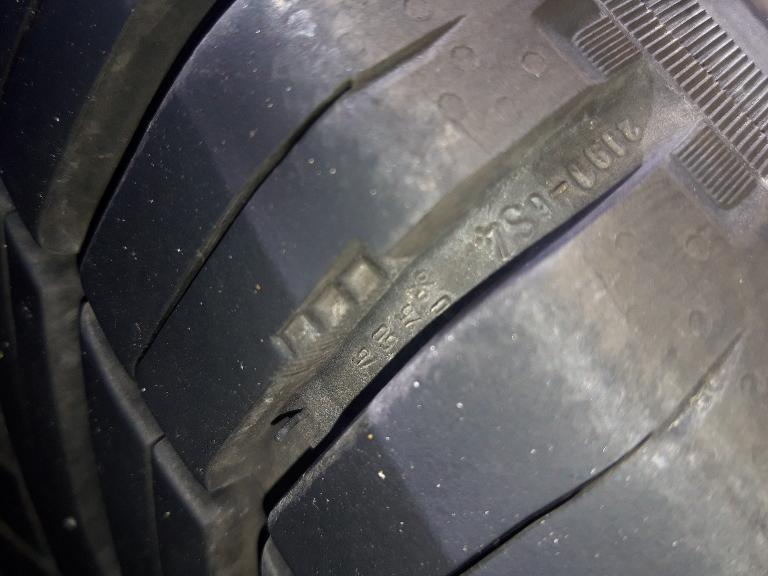temoin:90: (258, 234, 423, 390)
